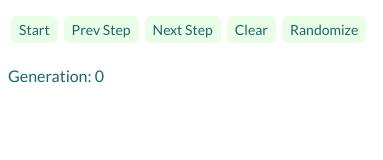
Scenario: <Controls /> › Counter › should have the same number as state
Click the button with class "next" at (183, 30), box [144, 16, 221, 43]
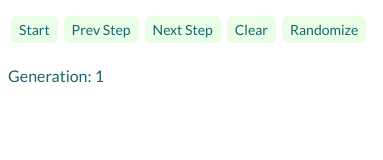
Check: the text "Generation: 1" is shown, box [8, 66, 104, 85]
